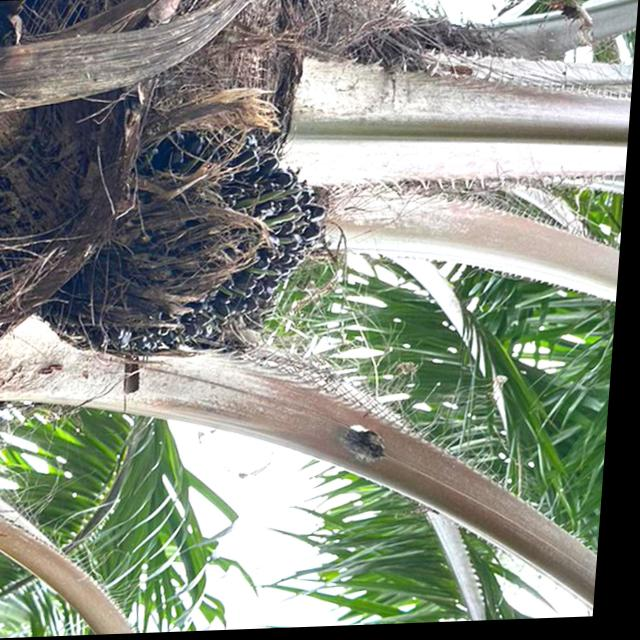unripe: (26, 109, 347, 370)
